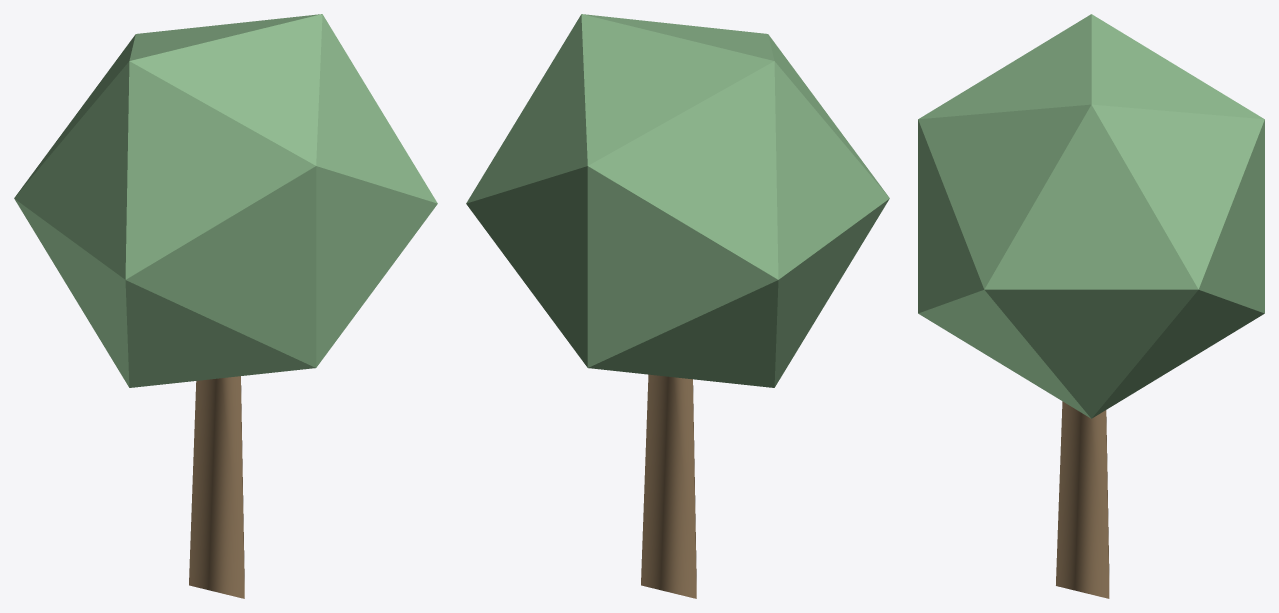
3 views of the same model, side by side, from view 1: azimuth 30°, elevation 25°; view 2: azimuth 150°, elevation 25°; view 3: azimuth 270°, elevation 25° (orthographic). The views are drawn at different scales.
Bounding box in the file's own units: 3.4 × 5.7 × 3.4.
